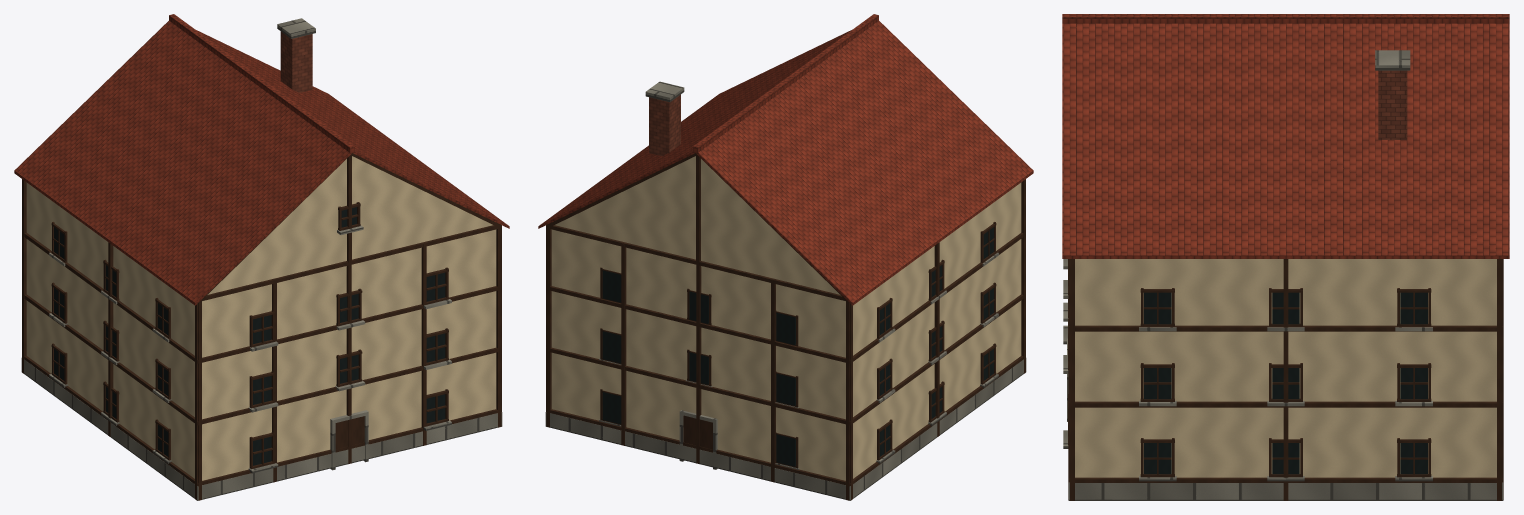
The model's file is SG_House_D_Wide_LOD1.fbx.
The picture shows the model from 3 angles, left to right: view 1: azimuth 30°, elevation 25°; view 2: azimuth 150°, elevation 25°; view 3: azimuth 270°, elevation 25°; orthographic projection. The views are drawn at different scales.
Parts seen in each view (by area): view 1: SG_House_D_Wide_Detail1; view 2: SG_House_D_Wide_Detail1; view 3: SG_House_D_Wide_Detail1.
Boxes of the visible parts, x1=… form: SG_House_D_Wide_Detail1: x1=14, y1=14, x2=509, y2=500; SG_House_D_Wide_Detail1: x1=538, y1=14, x2=1033, y2=500; SG_House_D_Wide_Detail1: x1=1062, y1=14, x2=1509, y2=500.
Size of the model in its own units: 29.4 by 28.95 by 29.3.
